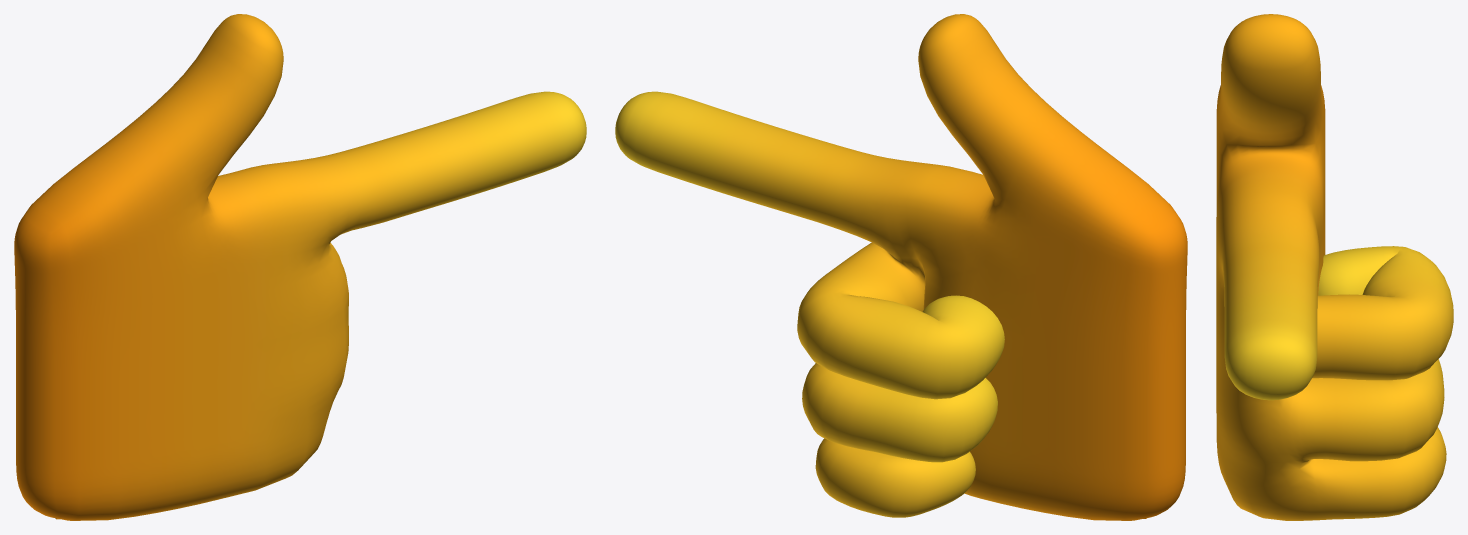
The model's file is backhand_index_pointing_right.fbx.
The picture shows the model from 3 angles, left to right: view 1: azimuth 30°, elevation 25°; view 2: azimuth 150°, elevation 25°; view 3: azimuth 270°, elevation 25°; orthographic projection. The views are drawn at different scales.
Parts seen in each view (by area): view 1: Cube.094; view 2: Cube.094; view 3: Cube.094.
Boxes of the visible parts, x1,y1,x2,y2 form: Cube.094: [14, 14, 586, 520]; Cube.094: [615, 14, 1187, 520]; Cube.094: [1216, 14, 1453, 520].
Bounding box in the file's own units: 176 × 141 × 61.95.
Materials: 2 (2 with a texture image).
